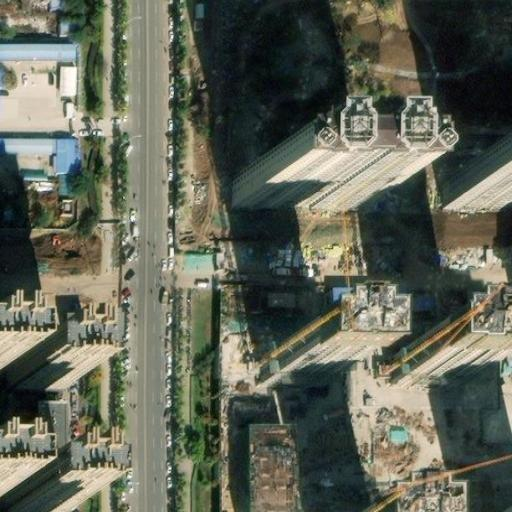building: (234, 148, 373, 205), (406, 324, 486, 381), (247, 420, 295, 512), (448, 150, 512, 206), (276, 322, 343, 374), (0, 352, 57, 395), (0, 479, 56, 512), (0, 39, 74, 62), (40, 403, 67, 461), (60, 68, 77, 95), (58, 17, 70, 38)
